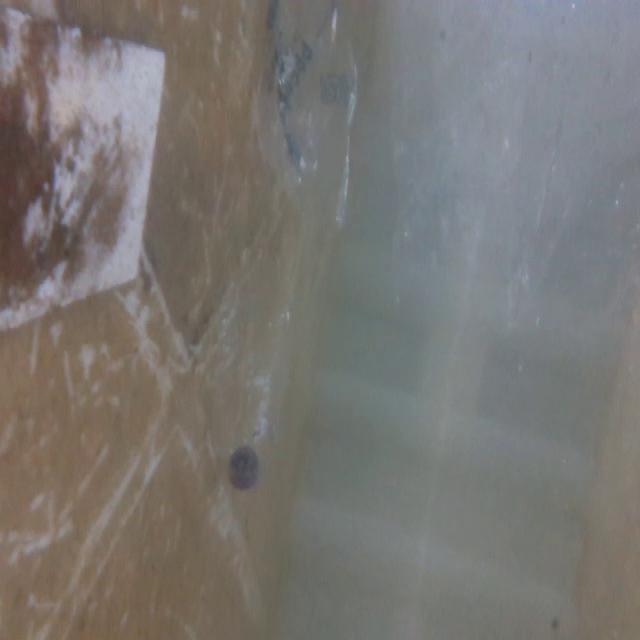plastic bags: (252, 2, 364, 226)
